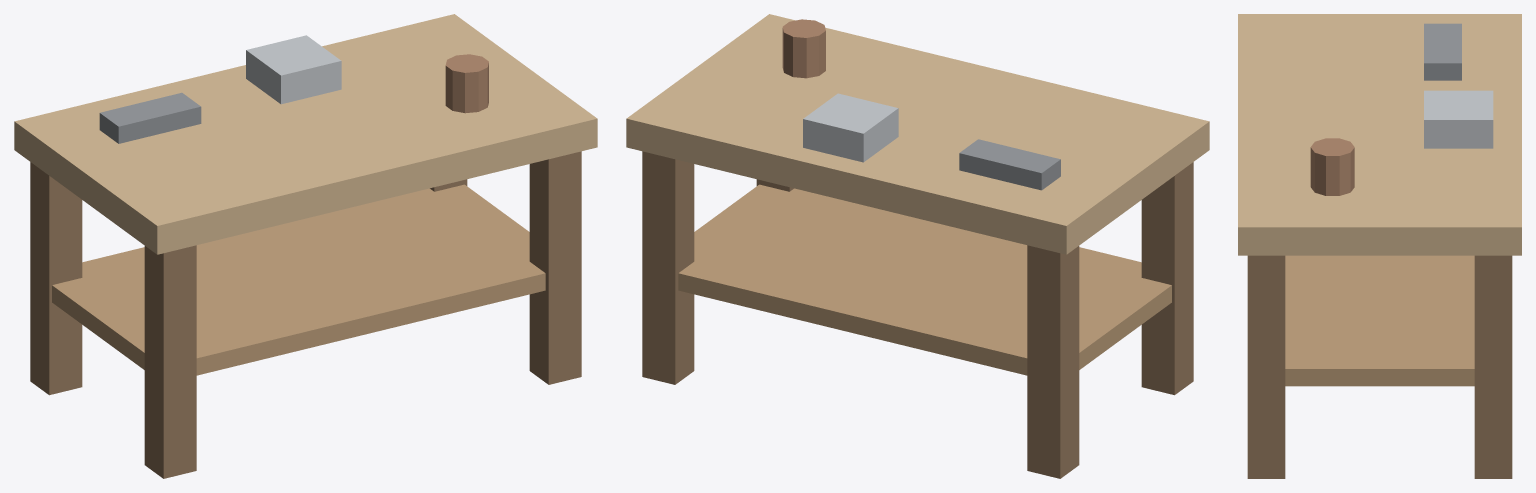
The model's file is workbench_t1.glb.
3 views of the same model, side by side, from view 1: azimuth 30°, elevation 25°; view 2: azimuth 150°, elevation 25°; view 3: azimuth 270°, elevation 25° (orthographic).
Visible parts, largest first — view 1: workbench_t1; view 2: workbench_t1; view 3: workbench_t1.
Part boxes in pixels (x1,y1,x2,y2): workbench_t1: [14, 14, 597, 478]; workbench_t1: [626, 14, 1209, 478]; workbench_t1: [1238, 14, 1521, 478].
Bounding box in the file's own units: 1.6 × 1.04 × 0.9.
